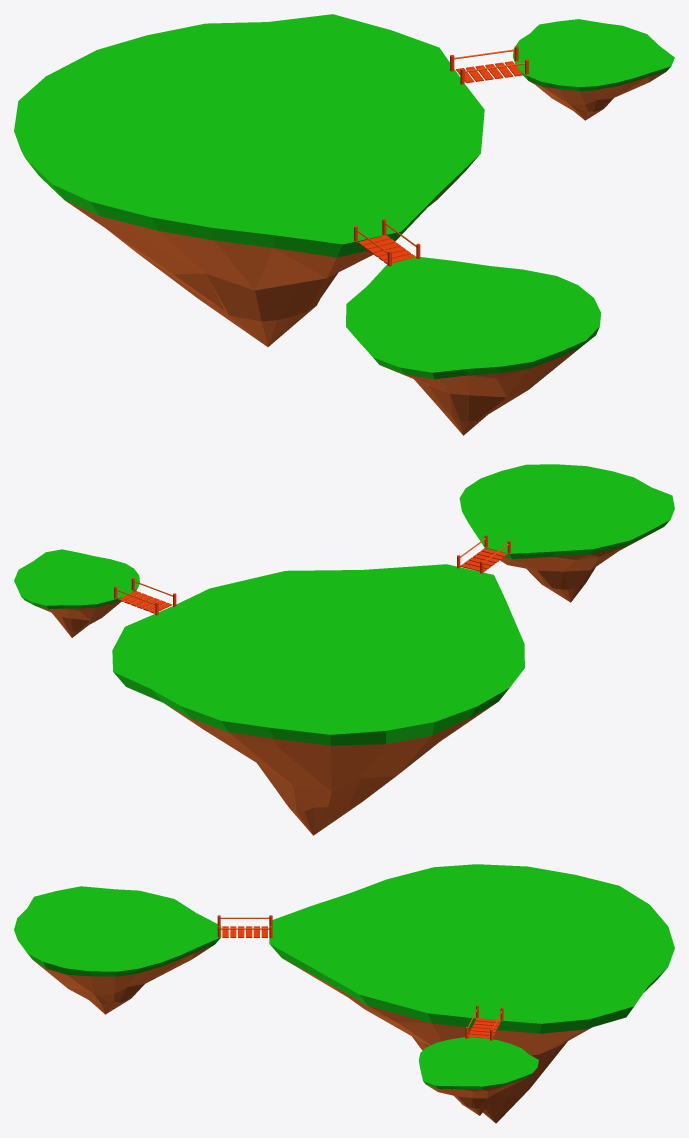
Rendered from island.obj.
3 views of the same model, one above another, from view 1: azimuth 30°, elevation 25°; view 2: azimuth 150°, elevation 25°; view 3: azimuth 270°, elevation 25° (orthographic). The views are drawn at different scales.
Visible parts, largest first — view 1: Grass_Cylinder.002, Grass_Cylinder.001, Dirt_Cylinder.001, Grass_Cylinder.003, Dirt_Cylinder, Dirt_Cylinder.002; view 2: Grass_Cylinder.002, Grass_Cylinder.001, Dirt_Cylinder.001, Grass_Cylinder.003, Dirt_Cylinder, Dirt_Cylinder.002; view 3: Grass_Cylinder.002, Grass_Cylinder.001, Grass_Cylinder.003, Dirt_Cylinder.001, Dirt_Cylinder, Dirt_Cylinder.002.
Boxes of the visible parts, x1,y1,x2,y2 form: Grass_Cylinder.002: (14,14,484,257); Grass_Cylinder.001: (346,257,600,379); Dirt_Cylinder.001: (66,177,459,346); Grass_Cylinder.003: (513,19,674,90); Dirt_Cylinder: (383,349,578,435); Dirt_Cylinder.002: (530,72,665,120); Grass_Cylinder.002: (112,564,524,745); Grass_Cylinder.001: (459,464,674,559); Dirt_Cylinder.001: (165,703,495,835); Grass_Cylinder.003: (14,549,139,609); Dirt_Cylinder: (500,529,659,602); Dirt_Cylinder.002: (36,601,121,637); Grass_Cylinder.002: (269,864,674,1033); Grass_Cylinder.001: (14,886,221,976); Grass_Cylinder.003: (419,1037,538,1089); Dirt_Cylinder.001: (284,959,591,1123); Dirt_Cylinder: (33,945,213,1014); Dirt_Cylinder.002: (427,1077,527,1115).
Bounding box in the file's own units: 32.94 × 12.77 × 41.19.
